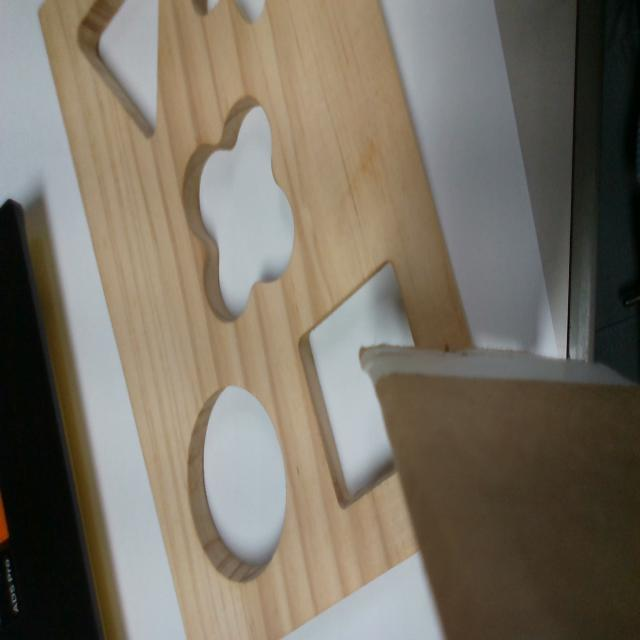circle: (187, 388, 286, 584)
flower: (178, 96, 297, 330)
square: (295, 258, 416, 513)
triangle: (77, 1, 162, 140)
